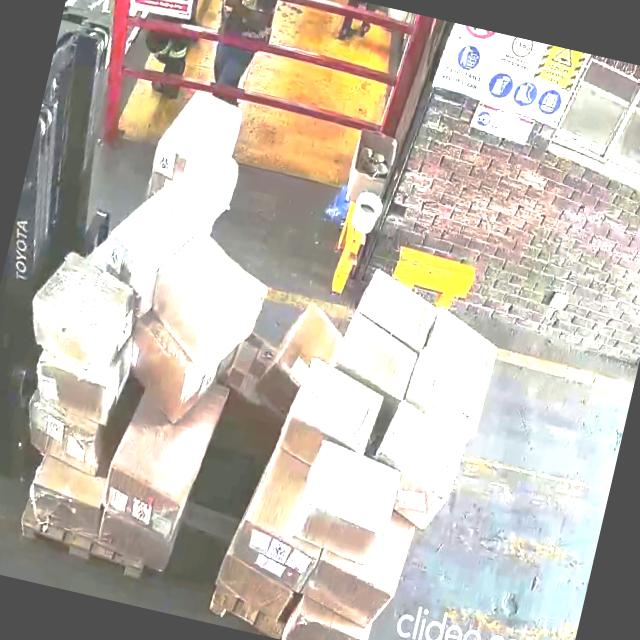Box: (293, 433, 414, 568), (156, 232, 266, 361), (30, 248, 138, 378), (144, 76, 248, 206), (413, 311, 511, 438), (102, 167, 198, 290), (286, 350, 388, 464), (380, 414, 482, 504), (348, 262, 446, 352), (332, 308, 424, 399), (99, 452, 190, 534), (260, 296, 334, 396), (15, 401, 110, 478), (24, 356, 120, 428), (228, 516, 314, 590), (306, 558, 392, 628), (208, 556, 294, 624), (94, 513, 180, 574), (24, 480, 102, 542), (286, 602, 376, 640)
